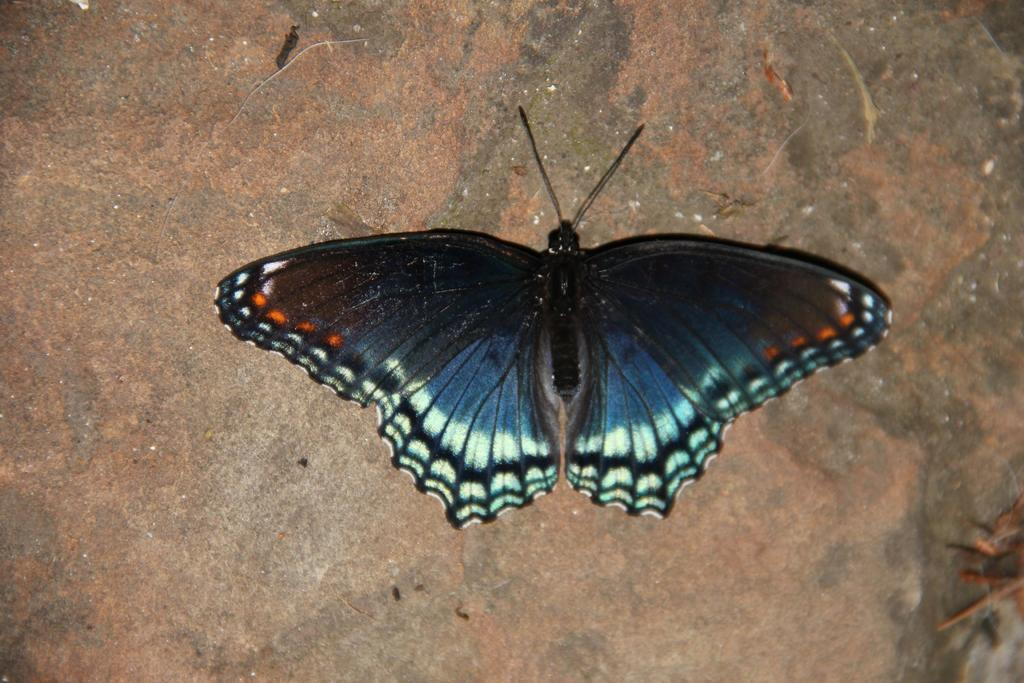Butterfly: (211, 137, 895, 520)
